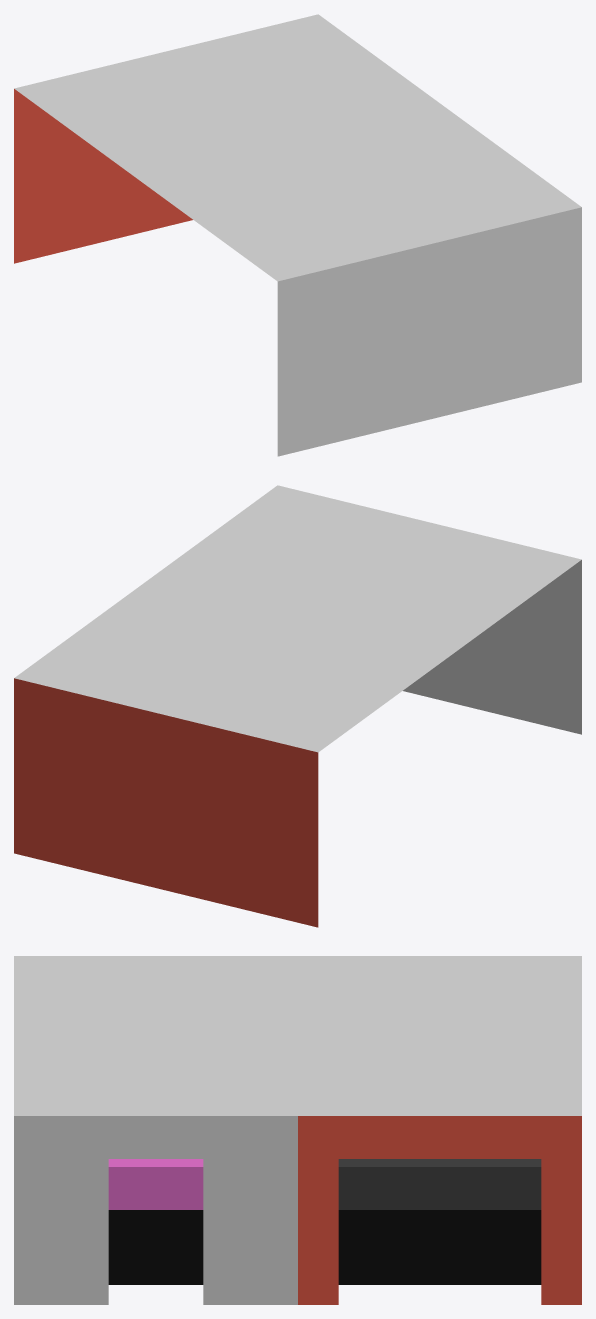
File: Edificio-2.fbx
3 renders of one model, top to bottom at view 1: azimuth 30°, elevation 25°; view 2: azimuth 150°, elevation 25°; view 3: azimuth 270°, elevation 25°, orthographic. The views are drawn at different scales.
Parts seen in each view (by area): view 1: Plane; view 2: Plane; view 3: Plane.
Part boxes in pixels (x1,y1,x2,y2): Plane: (14,14,581,456); Plane: (14,485,581,927); Plane: (14,956,581,1304).
Bounding box in the file's own units: 420 × 220 × 600.
